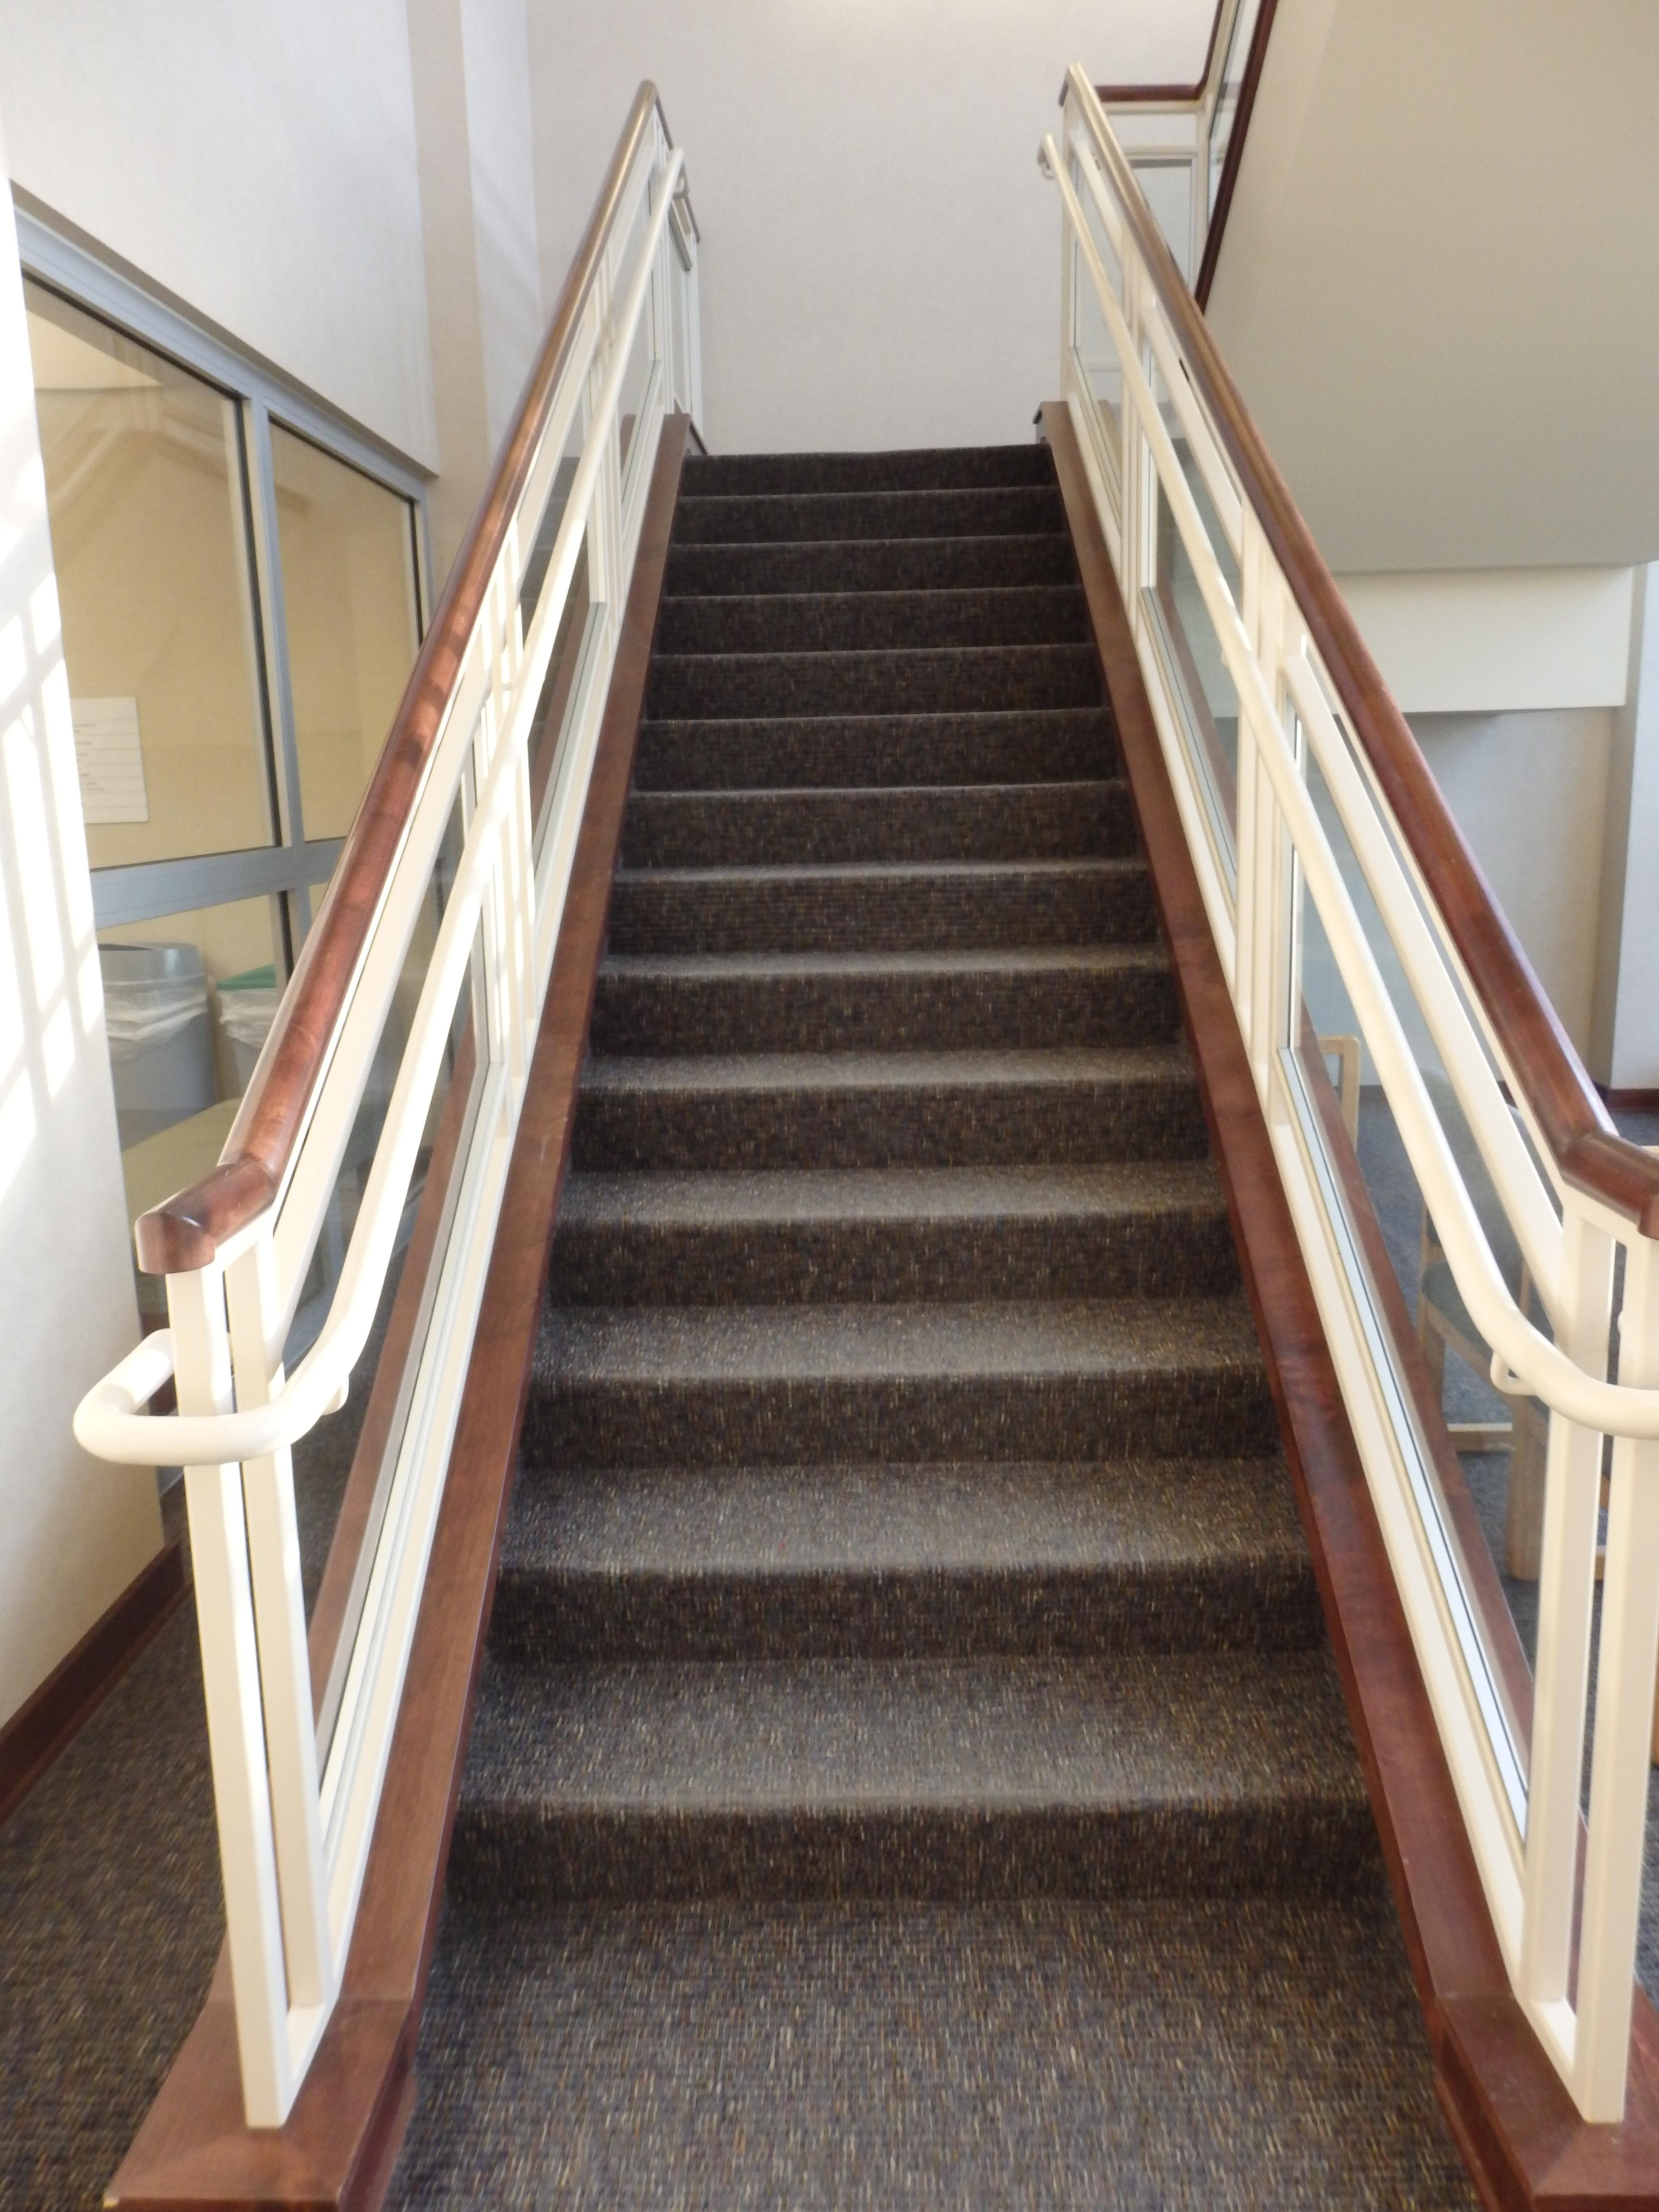stairs_up: (525, 380, 1356, 1911)
